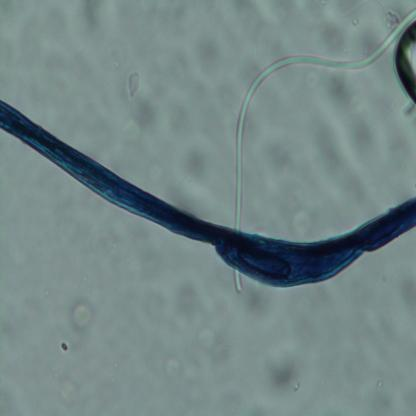Air bubble: (392, 21, 416, 108)
Background material: (312, 122, 373, 204), (150, 102, 212, 180), (330, 75, 382, 166), (346, 354, 394, 406), (169, 280, 211, 333), (267, 349, 306, 396), (192, 34, 228, 78), (152, 340, 188, 383), (44, 371, 83, 409), (129, 96, 155, 148), (321, 19, 350, 60), (81, 0, 104, 43), (70, 296, 96, 333), (400, 275, 416, 312), (128, 69, 141, 101), (60, 338, 69, 354)
Cotton: (0, 99, 416, 288)
Glass filter fibre: (232, 7, 416, 233), (230, 270, 245, 294)
